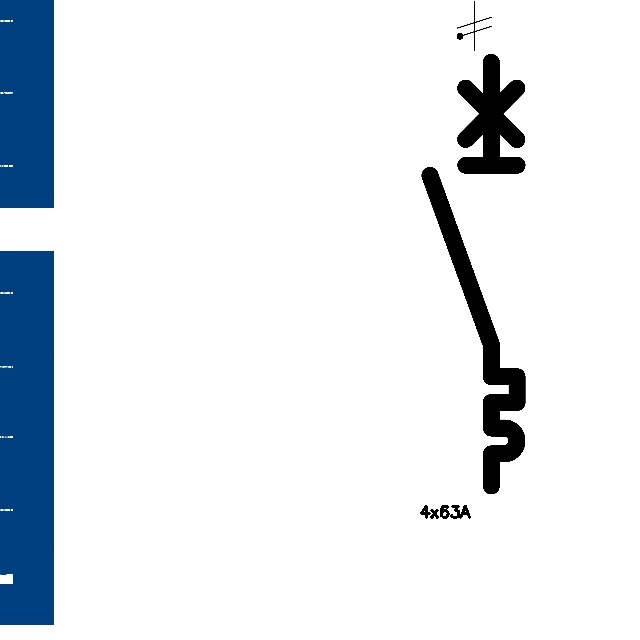interruptor_termomagnetico: (419, 51, 528, 497)
